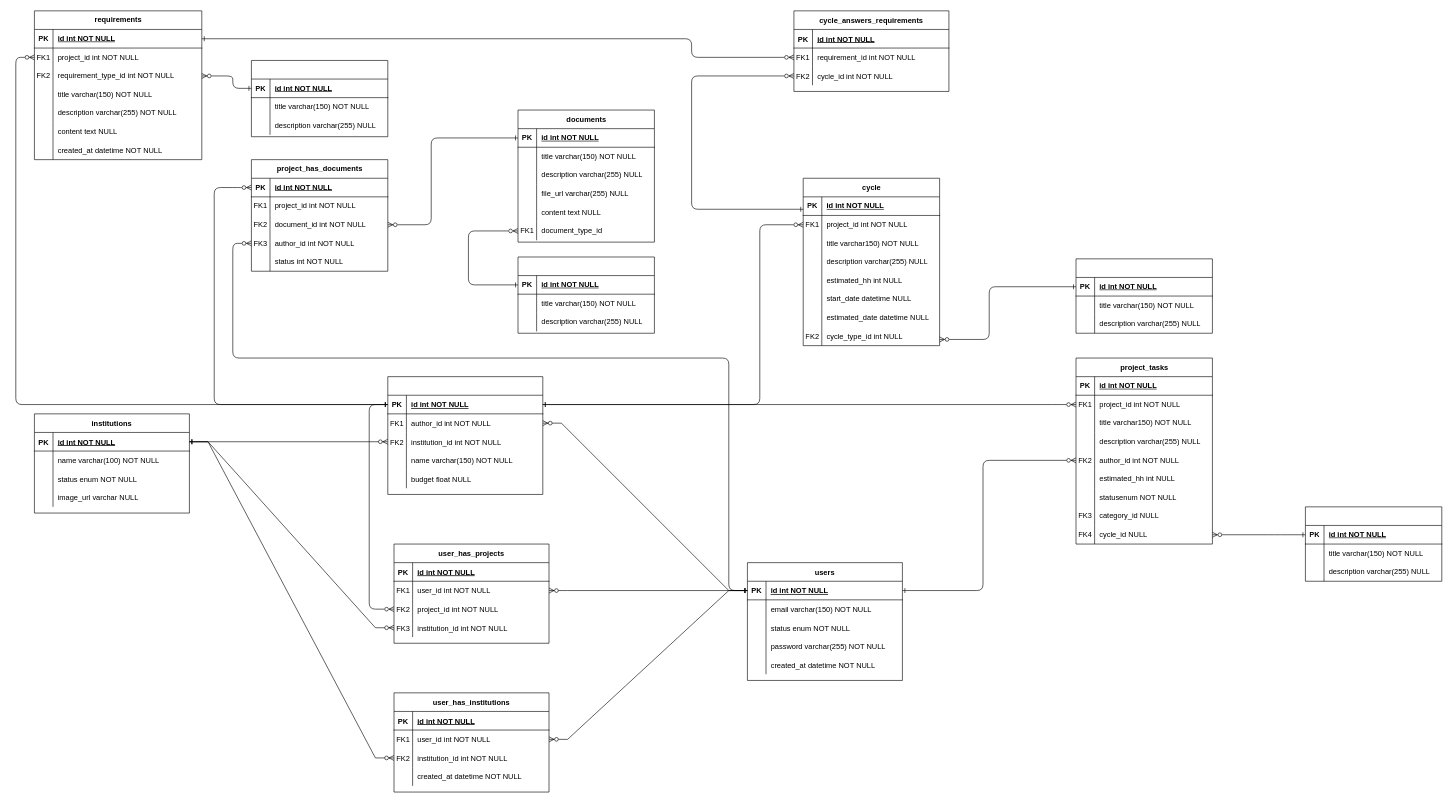
This 1453x803 diagram has some shape labels left out. The shapes that lost their labels are listed below. From the top down, each one's box as (x1, y1, x2, y2) in pixels, then its label:
(251, 60, 388, 137): requirement_type
(517, 256, 654, 333): document_types
(1075, 258, 1212, 333): cycle_types
(387, 376, 543, 494): projects
(1305, 506, 1442, 581): categories
